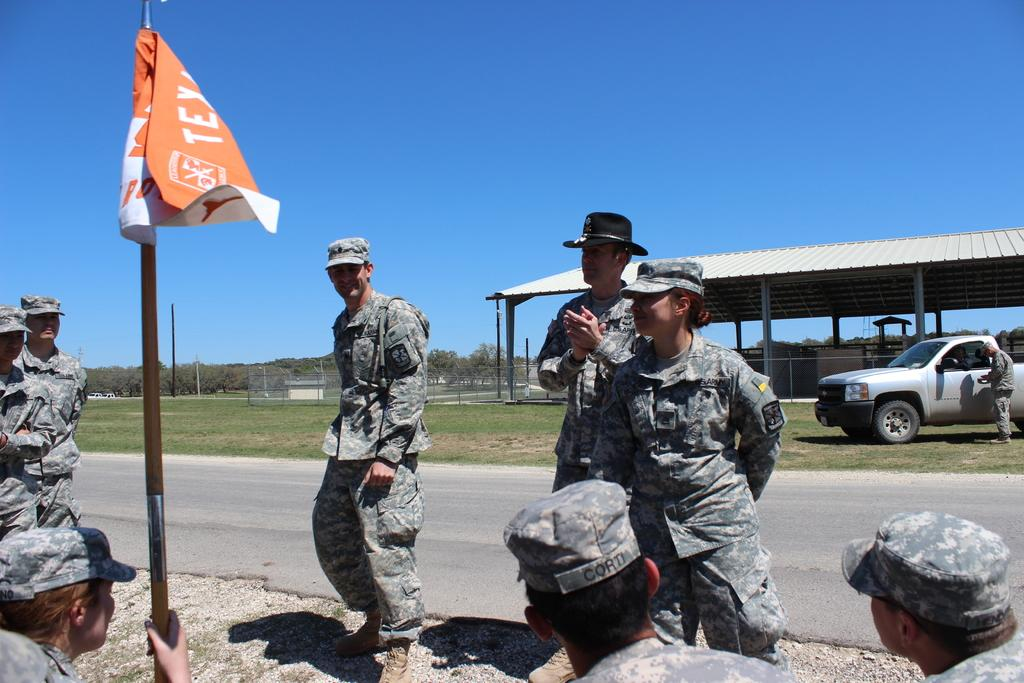Hat: (842, 510, 1012, 633), (502, 477, 643, 594), (0, 528, 137, 604), (562, 211, 648, 257), (618, 257, 702, 299), (325, 235, 367, 275), (22, 294, 66, 316), (0, 305, 30, 334)
